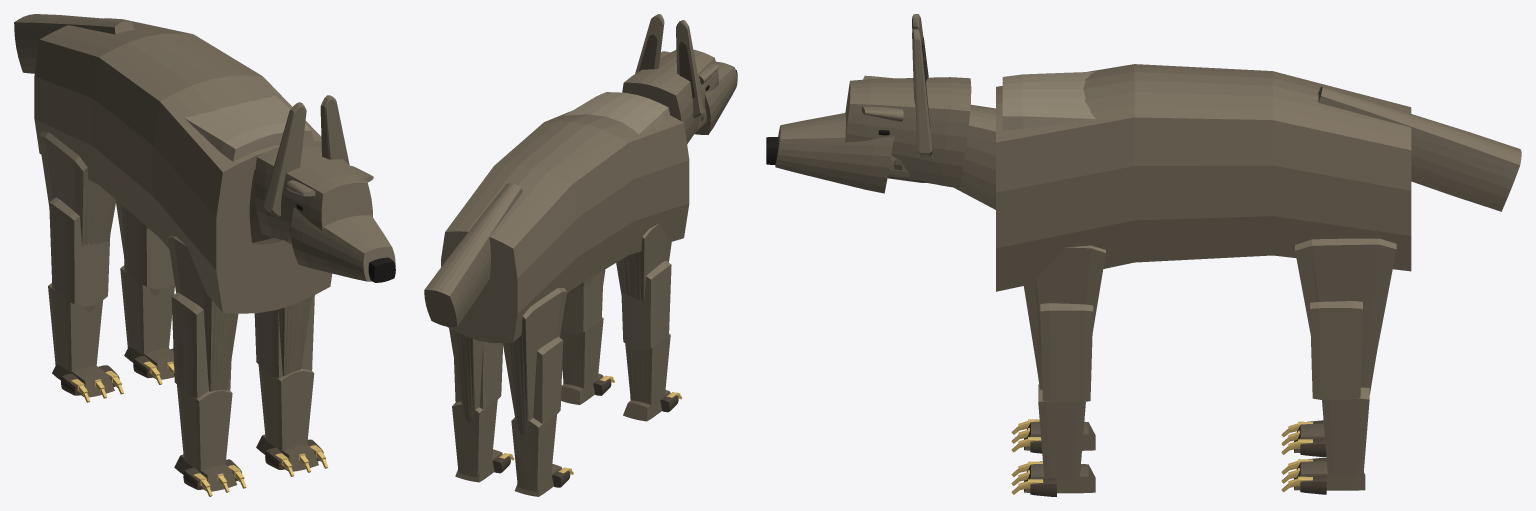
File: terranova_wolf.obj
The picture shows the model from 3 angles, left to right: view 1: azimuth 30°, elevation 25°; view 2: azimuth 150°, elevation 25°; view 3: azimuth 270°, elevation 25°; orthographic projection. The views are drawn at different scales.
Visible parts, largest first — view 1: Körper, Hinterbein, Vorderbein, Kopf, Schultermasse, Schnauze, Keule, Nackenmähne, Ohr, Buschschwanz, Hinterhuf, Vorderhuf (+7 smaller); view 2: Körper, Vorderbein, Hinterbein, Keule, Buschschwanz, Kopf, Nackenmähne, Schultermasse, Ohr, Schnauze, Vorderhuf, Ohrinneres (+3 smaller); view 3: Körper, Kopf, Buschschwanz, Hinterbein, Vorderbein, Keule, Schnauze, Nackenmähne, Schultermasse, Hals, Ohr, Vorderhuf (+4 smaller).
Boxes of the visible parts, bbox=[...] form: Körper: bbox=[34, 18, 332, 313]; Hinterbein: bbox=[48, 197, 174, 372]; Vorderbein: bbox=[171, 292, 314, 471]; Kopf: bbox=[254, 141, 372, 241]; Schultermasse: bbox=[168, 235, 311, 391]; Schnauze: bbox=[291, 207, 395, 281]; Keule: bbox=[38, 131, 160, 312]; Nackenmähne: bbox=[184, 95, 313, 161]; Ohr: bbox=[263, 95, 349, 217]; Buschschwanz: bbox=[14, 14, 134, 73]; Hinterhuf: bbox=[52, 346, 173, 397]; Vorderhuf: bbox=[174, 434, 318, 491]; Körper: bbox=[441, 110, 689, 342]; Vorderbein: bbox=[560, 260, 671, 405]; Hinterbein: bbox=[452, 337, 563, 491]; Keule: bbox=[449, 287, 567, 435]; Buschschwanz: bbox=[424, 183, 522, 327]; Kopf: bbox=[622, 49, 718, 143]; Nackenmähne: bbox=[564, 92, 670, 133]; Schultermasse: bbox=[578, 223, 671, 301]; Ohr: bbox=[635, 14, 703, 118]; Schnauze: bbox=[694, 61, 737, 134]; Vorderhuf: bbox=[561, 373, 670, 421]; Ohrinneres: bbox=[639, 34, 694, 98]; Körper: bbox=[996, 64, 1411, 291]; Kopf: bbox=[845, 77, 971, 188]; Buschschwanz: bbox=[1318, 86, 1521, 211]; Hinterbein: bbox=[1310, 301, 1369, 482]; Vorderbein: bbox=[1038, 303, 1093, 478]; Keule: bbox=[1295, 238, 1396, 394]; Schnauze: bbox=[775, 113, 894, 193]; Nackenmähne: bbox=[1002, 71, 1095, 130]; Schultermasse: bbox=[1023, 245, 1105, 389]; Hals: bbox=[954, 104, 995, 209]; Ohr: bbox=[912, 14, 932, 157]; Vorderhuf: bbox=[1024, 421, 1095, 493].
Bounding box in the file's own units: 0.3436 × 1.06 × 1.64.
